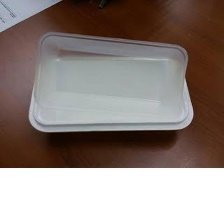plastic_box: (21, 25, 199, 140)
